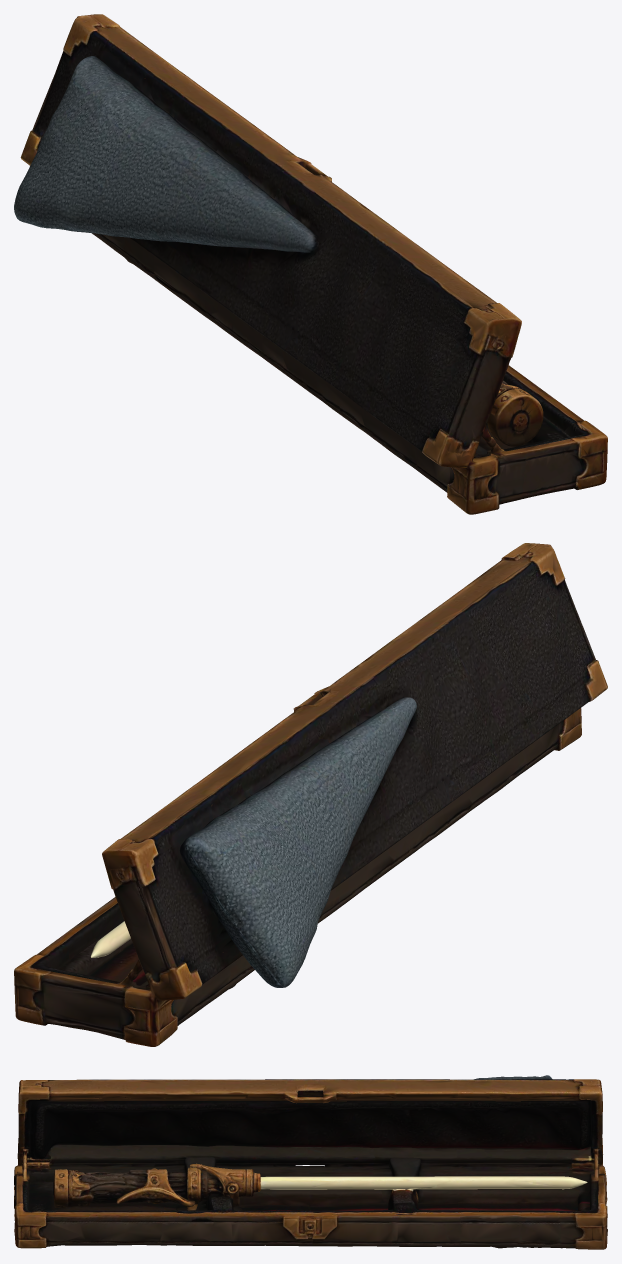
The model's file is sovereign-arc-duellist.glb.
3 views of the same model, one above another, from view 1: azimuth 30°, elevation 25°; view 2: azimuth 150°, elevation 25°; view 3: azimuth 270°, elevation 25° (orthographic). The views are drawn at different scales.
Parts seen in each view (by area): view 1: tripo_node_dcf5f465-55ba-40ab-ba84-b66f565b6ced; view 2: tripo_node_dcf5f465-55ba-40ab-ba84-b66f565b6ced; view 3: tripo_node_dcf5f465-55ba-40ab-ba84-b66f565b6ced.
Part boxes in pixels (<box>): tripo_node_dcf5f465-55ba-40ab-ba84-b66f565b6ced: <box>14,14,607,514</box>; tripo_node_dcf5f465-55ba-40ab-ba84-b66f565b6ced: <box>14,543,607,1046</box>; tripo_node_dcf5f465-55ba-40ab-ba84-b66f565b6ced: <box>14,1075,607,1249</box>.
Bounding box in the file's own units: 0.302 × 0.2429 × 0.9801.
Materials: 1 (1 with a texture image).
